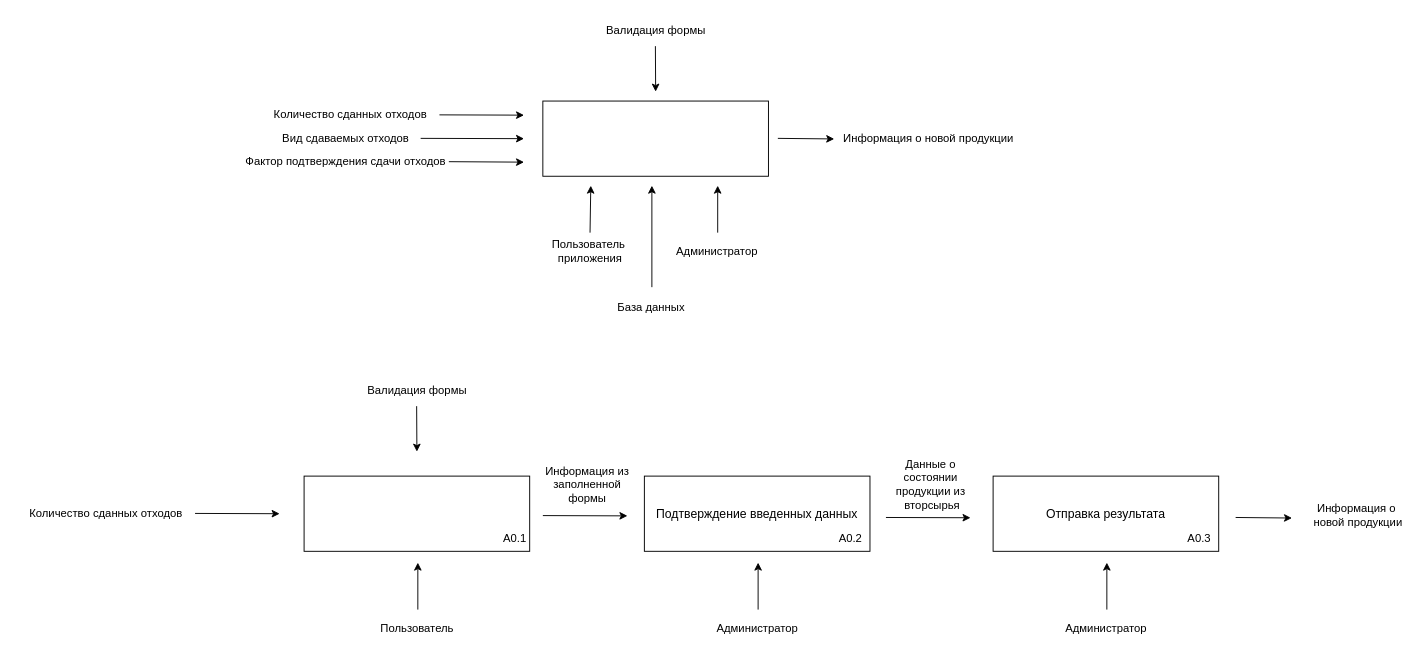
Some shapes in this 1426 by 658 pixel diagram are drawn without their labels. The shapes that lost their labels are listed below. From the top down, each one's box as (x1, y1, x2, y2) in pixels, then its label:
(542, 100, 768, 176): Получение информации о новой продукции из вторсырья
(303, 475, 530, 551): Заполнение формы
